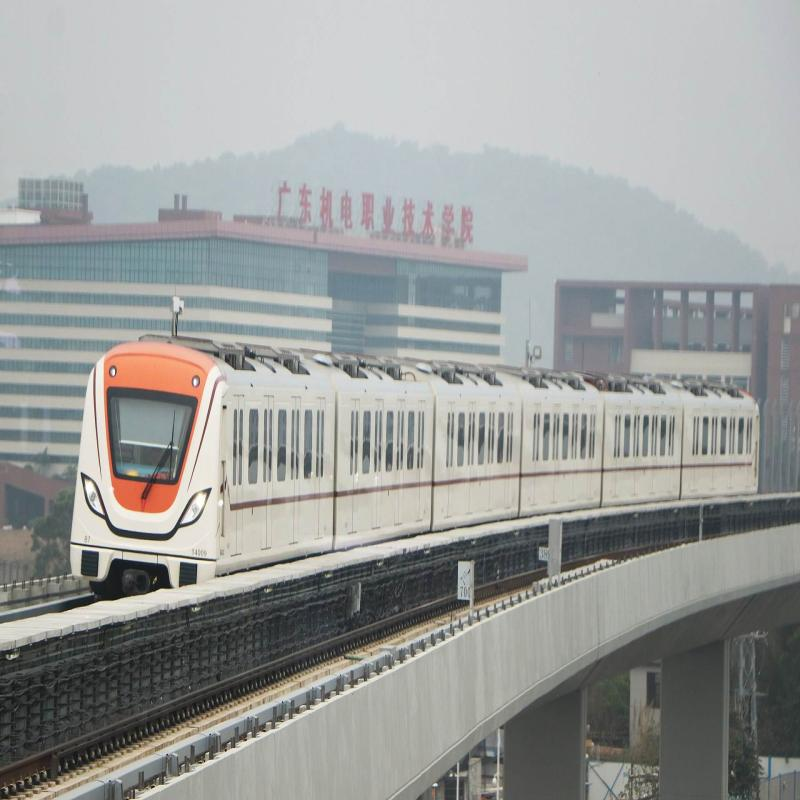train: (80, 324, 601, 599)
